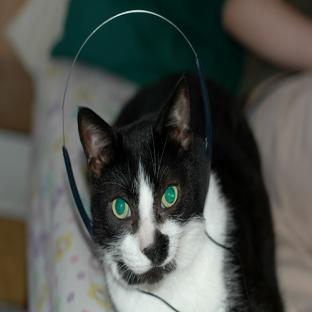Animal: (78, 74, 282, 311)
